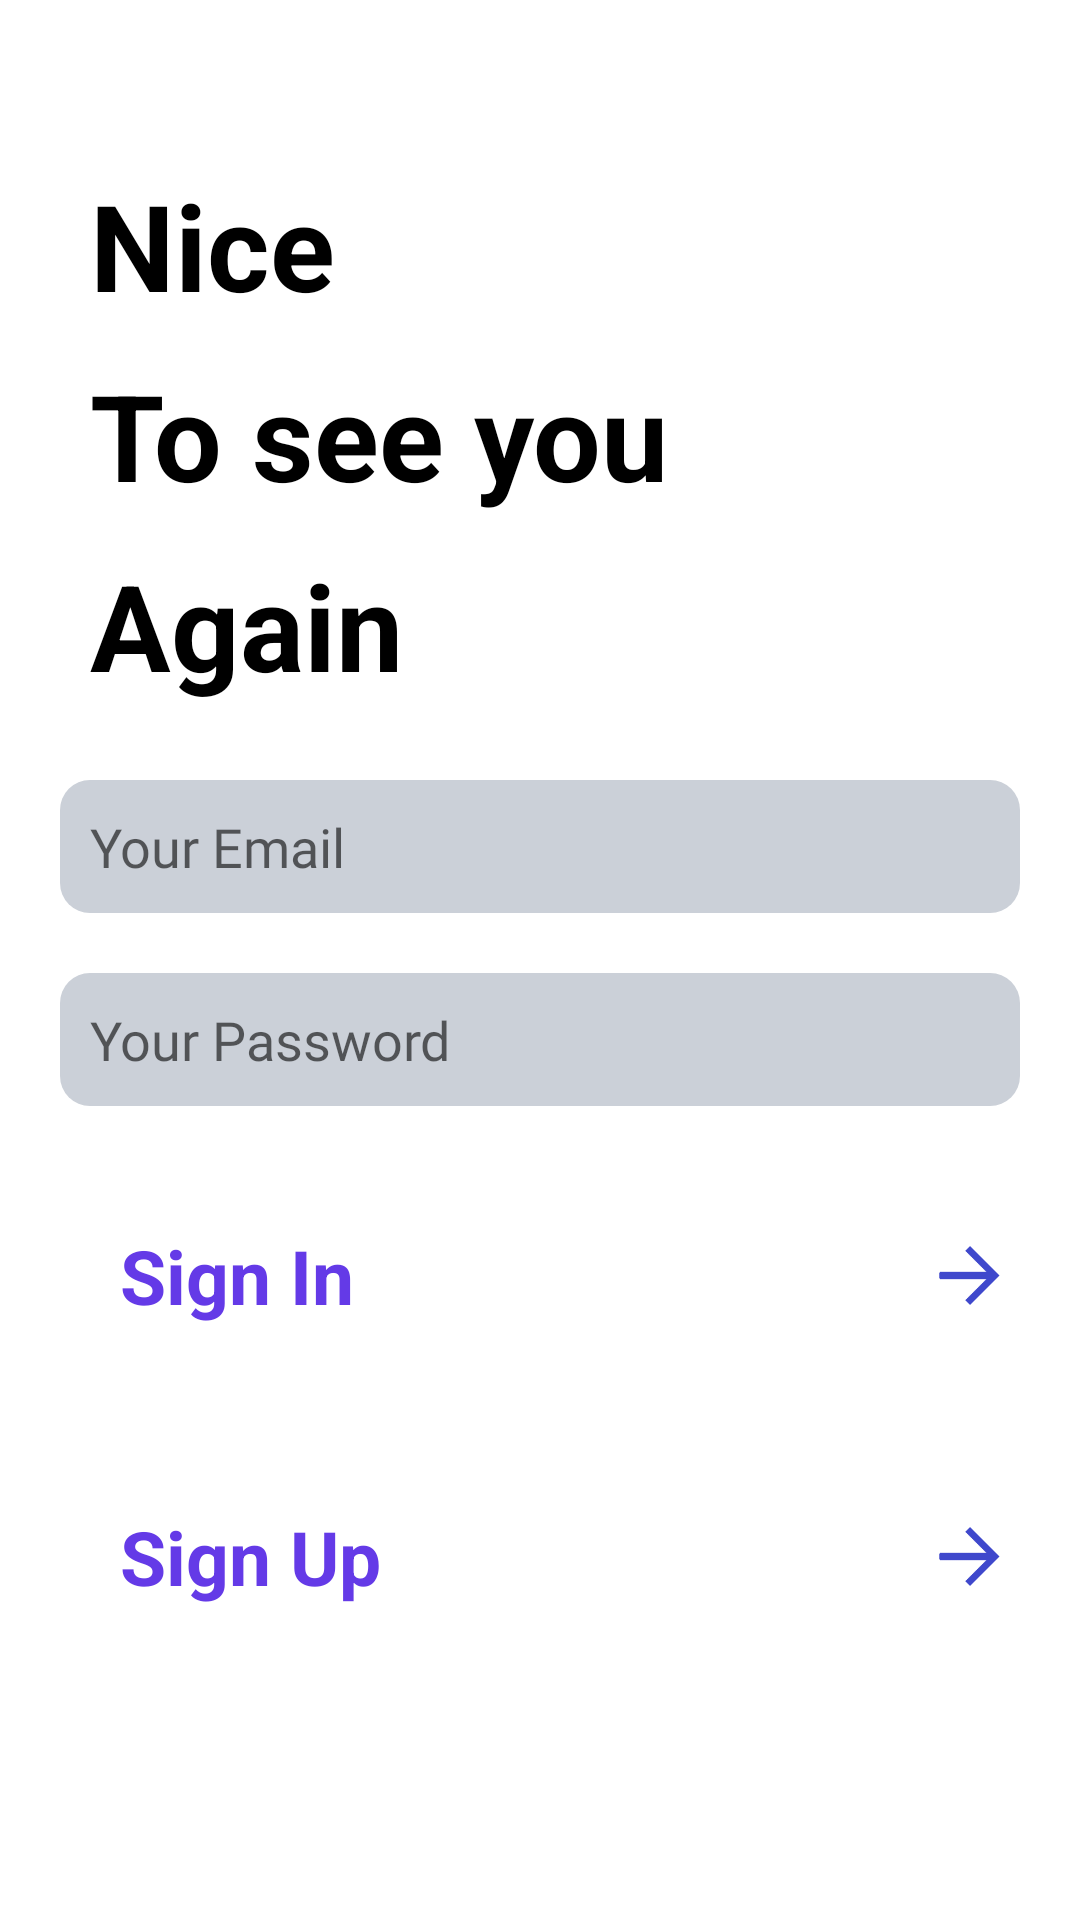

Icons on this 1080px×1920px Android screen, each with the point to tap as point (x, y):
long right: point (969, 1275), point (969, 1556)
